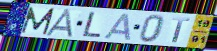0: (138, 13, 166, 43)
A: (43, 8, 76, 39), (102, 12, 133, 41)
L: (81, 11, 103, 39)
M: (19, 6, 56, 36)
T: (171, 16, 191, 44)
